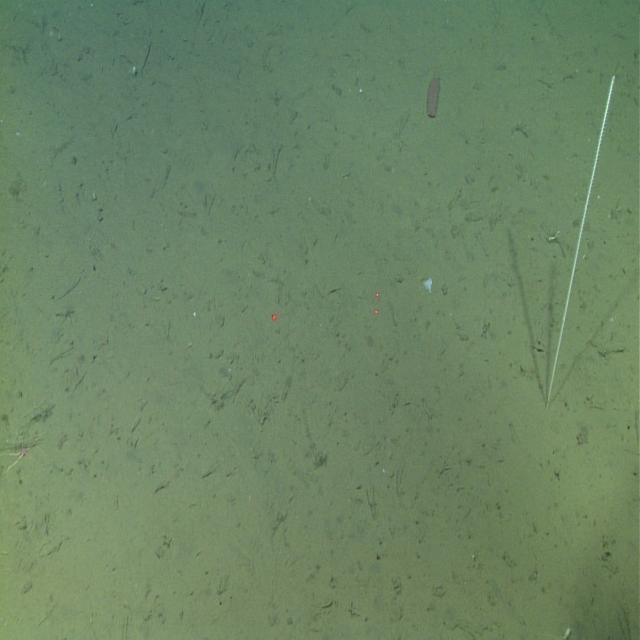Brittle Star: (0, 417, 46, 484)
